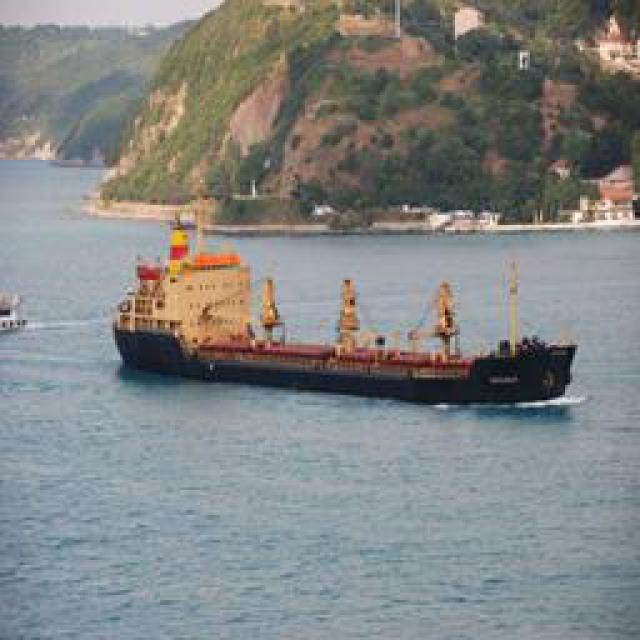Ship: (110, 226, 593, 411)
